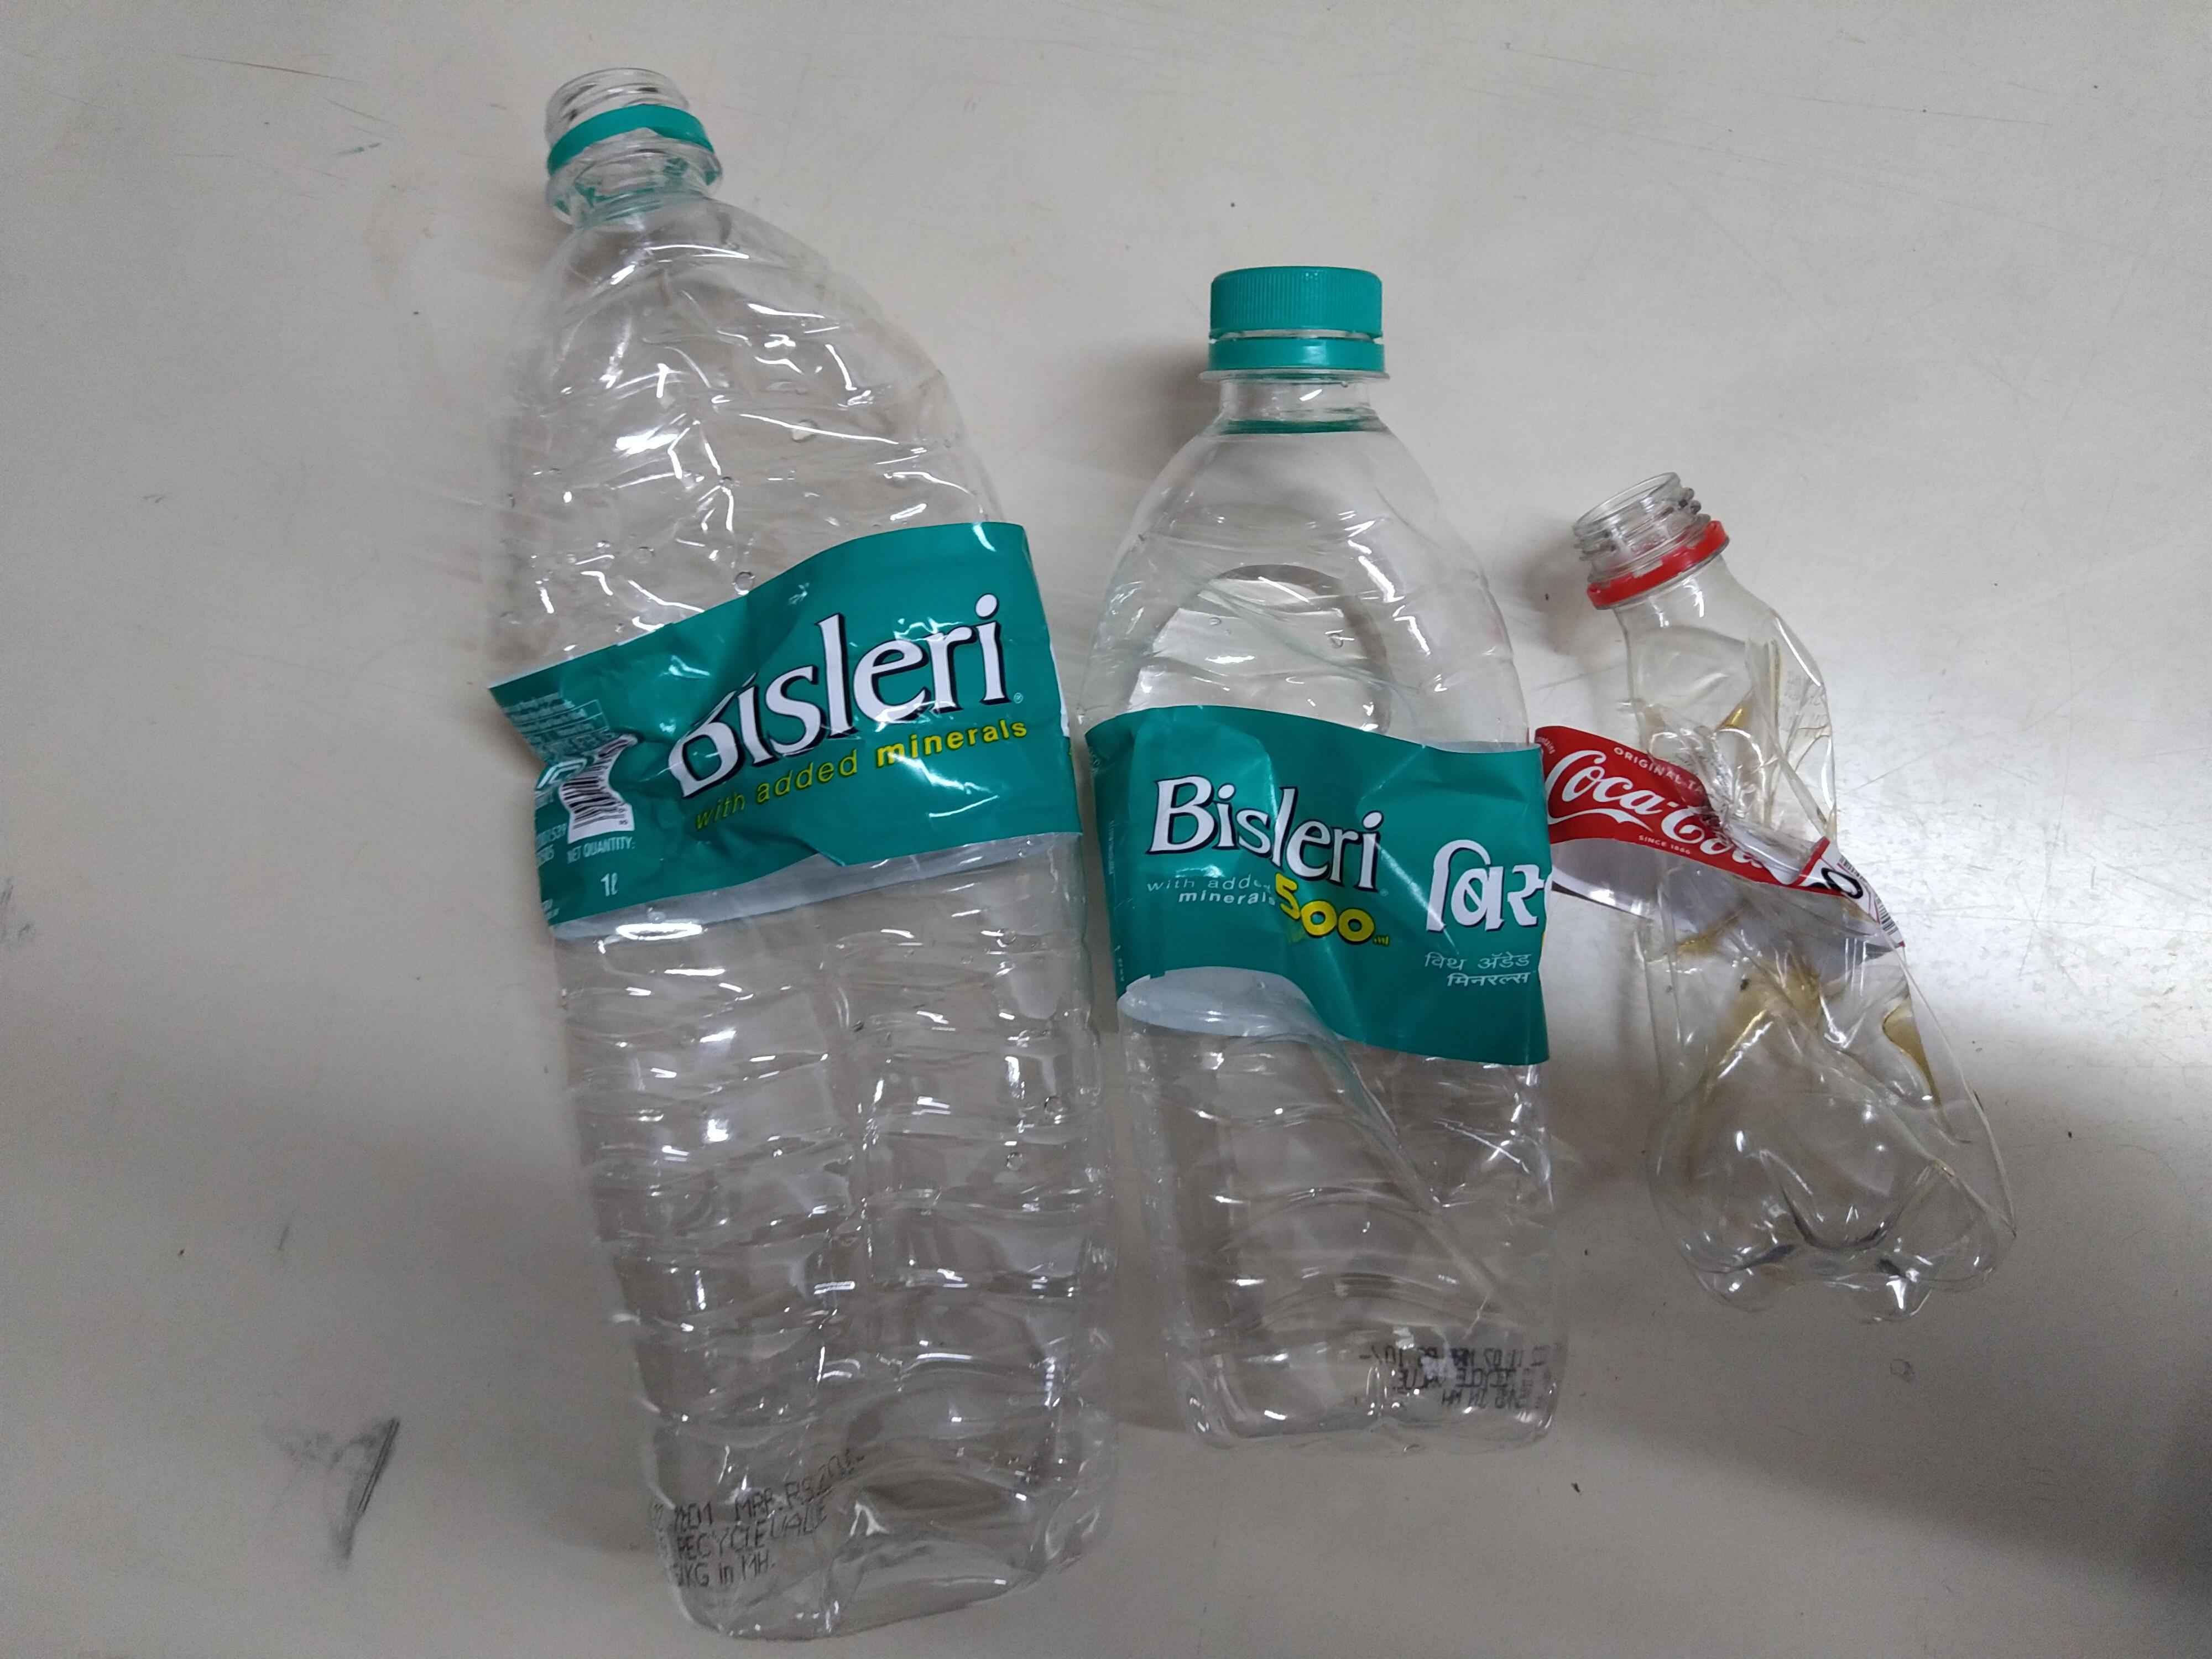Bisleri: (1129, 744, 1559, 999), (568, 589, 1057, 793)
Coca-Cola: (1545, 755, 1747, 866)
